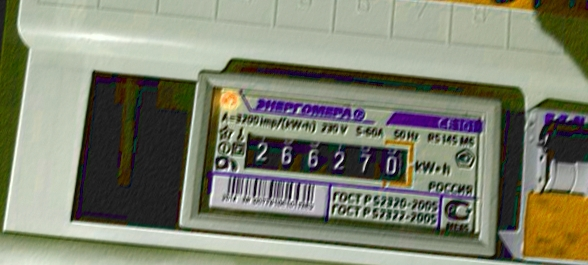0: (385, 154, 400, 175)
2: (254, 141, 271, 162), (332, 149, 348, 171)
6: (280, 144, 295, 166), (307, 148, 322, 169)
7: (358, 152, 372, 172)
screen: (235, 121, 423, 194)
